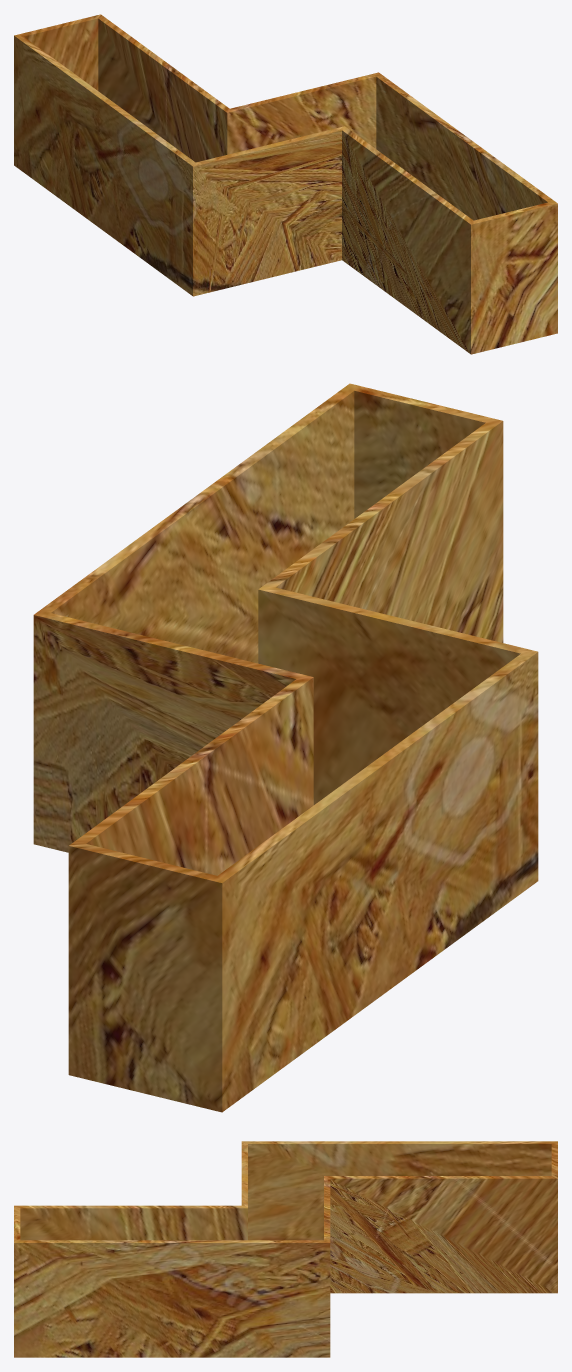
The model's file is housing.dae.
3 views of the same model, one above another, from view 1: azimuth 30°, elevation 25°; view 2: azimuth 150°, elevation 25°; view 3: azimuth 270°, elevation 25° (orthographic). The views are drawn at different scales.
Visible parts, largest first — view 1: Bluebarshousing; view 2: Bluebarshousing; view 3: Bluebarshousing.
Boxes of the visible parts, x1,y1,x2,y2 form: Bluebarshousing: [14, 14, 557, 354]; Bluebarshousing: [33, 383, 538, 1112]; Bluebarshousing: [14, 1141, 557, 1357].
Bounding box in the file's own units: 3.8 × 8.6 × 2.
1 material, 1 textured.
